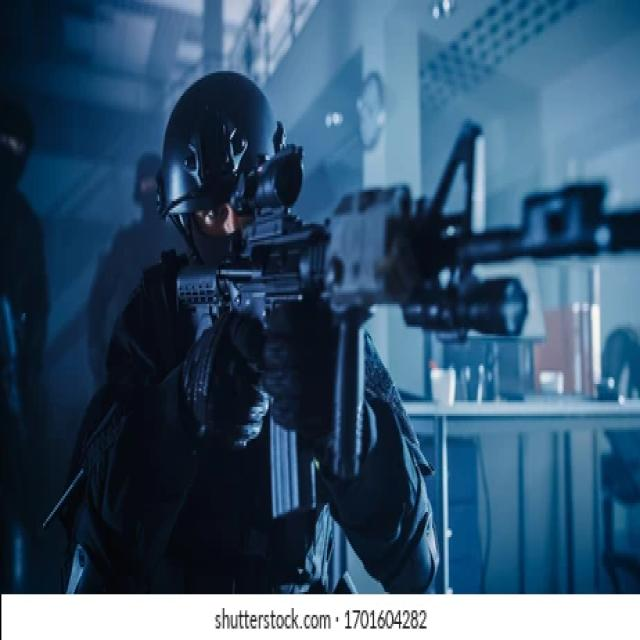soldier: (64, 70, 640, 595)
